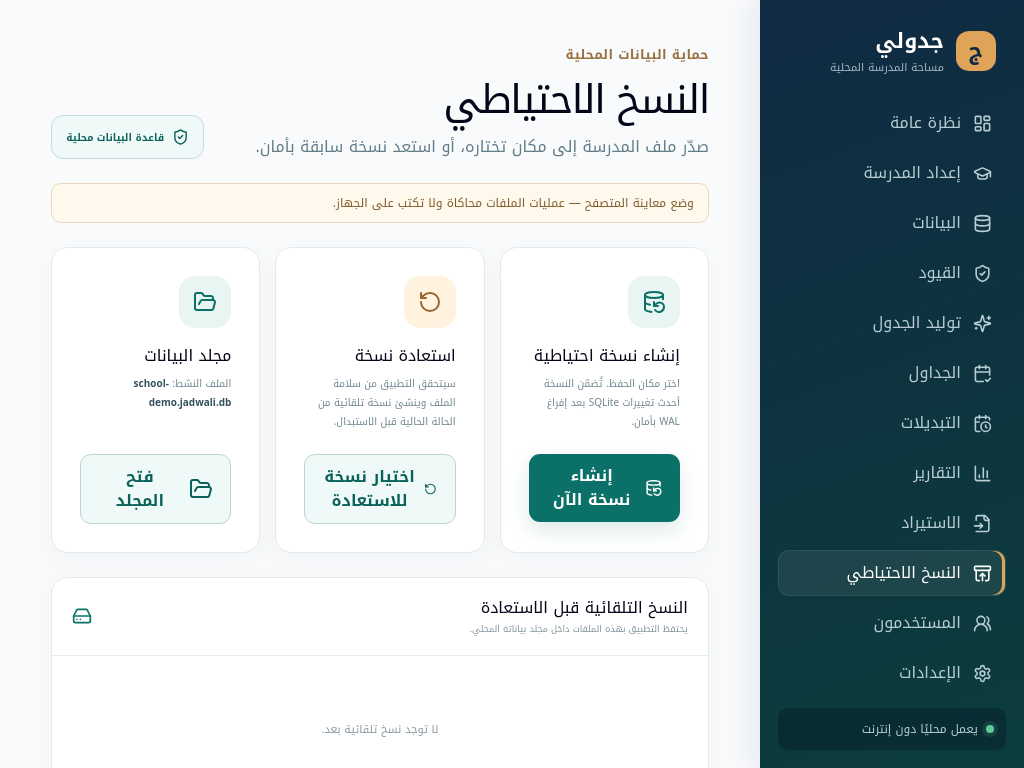
Scenario: simulates a local backup in browser preview mode
Step 1. Click the button "إنشاء نسخة الآن" → (604, 488), box [529,454,680,522]
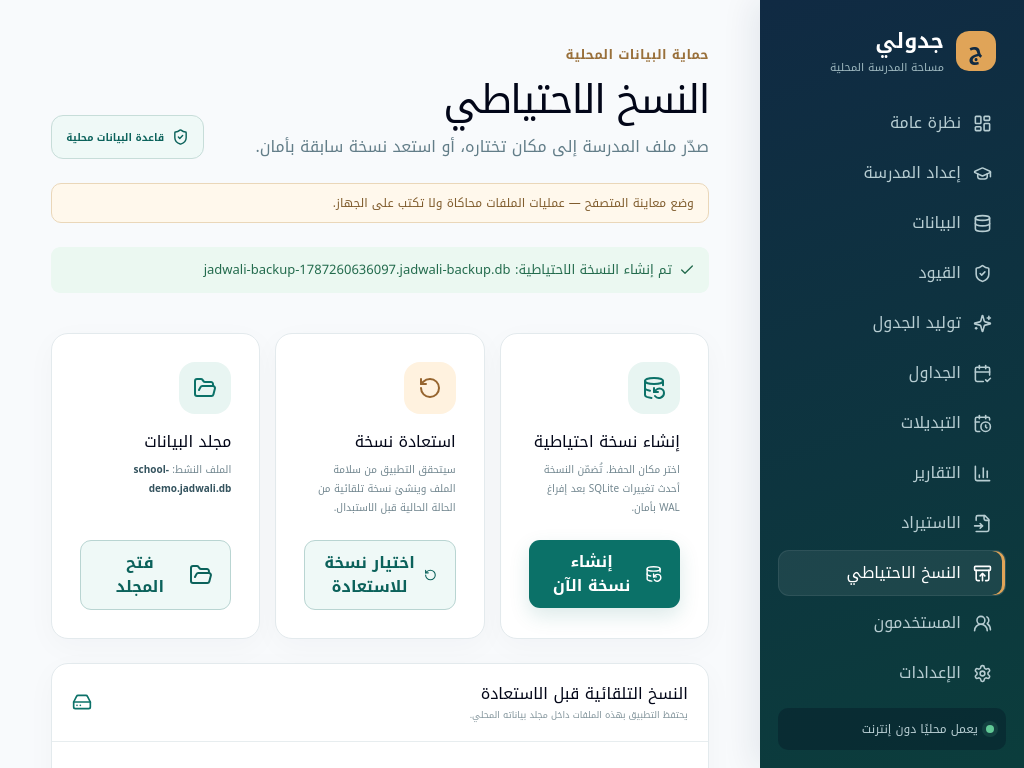
Check: the text "تم إنشاء النسخة الاحتياطية" is shown, box [204,257,672,282]
